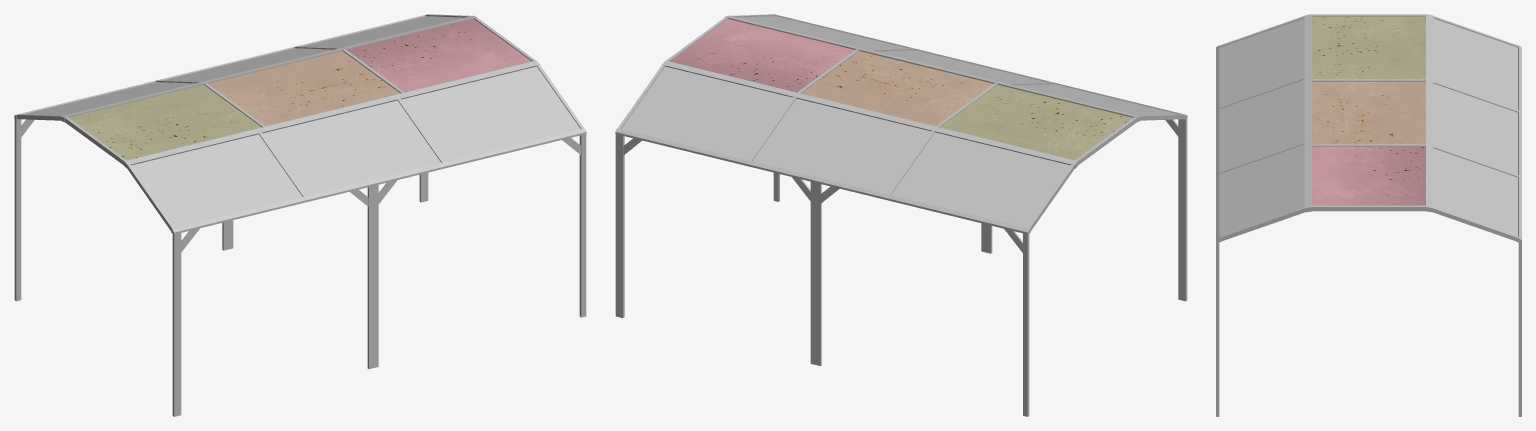
The model's file is raincover05c.fbx.
3 renders of one model, left to right at view 1: azimuth 30°, elevation 25°; view 2: azimuth 150°, elevation 25°; view 3: azimuth 270°, elevation 25°, orthographic. The views are drawn at different scales.
Visible parts, largest first — view 1: raincover05c; view 2: raincover05c; view 3: raincover05c.
Part boxes in pixels (x1,y1,x2,y2): raincover05c: [14, 14, 586, 416]; raincover05c: [615, 14, 1187, 416]; raincover05c: [1216, 14, 1521, 416].
Bounding box in the file's own units: 1722 × 874 × 1153.
